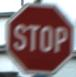Stop sign: (0, 0, 75, 76)
